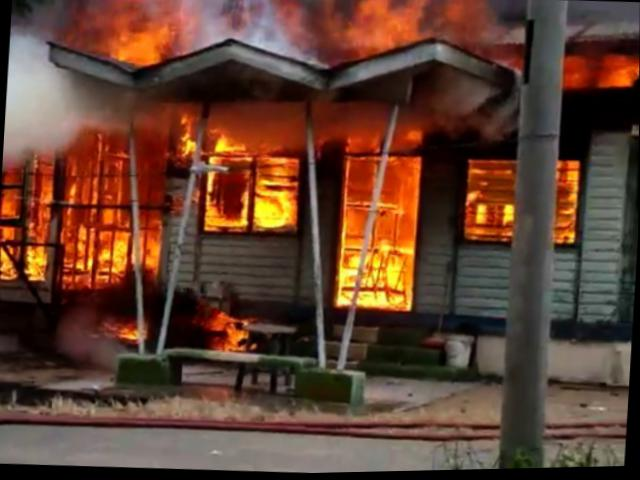fire: (4, 89, 428, 319), (56, 0, 497, 81), (462, 158, 520, 243), (562, 46, 639, 90), (555, 161, 582, 249)
